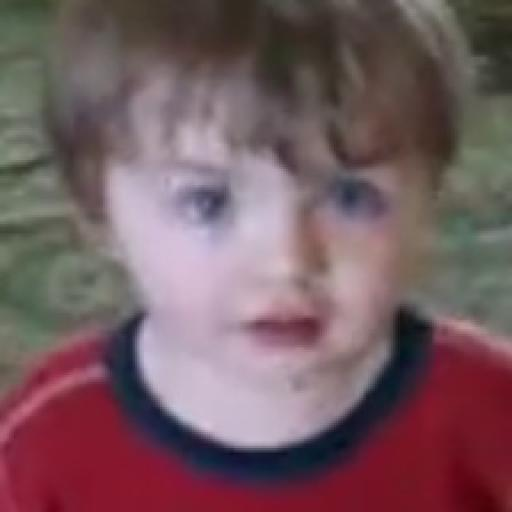Autism: (66, 5, 503, 434)
